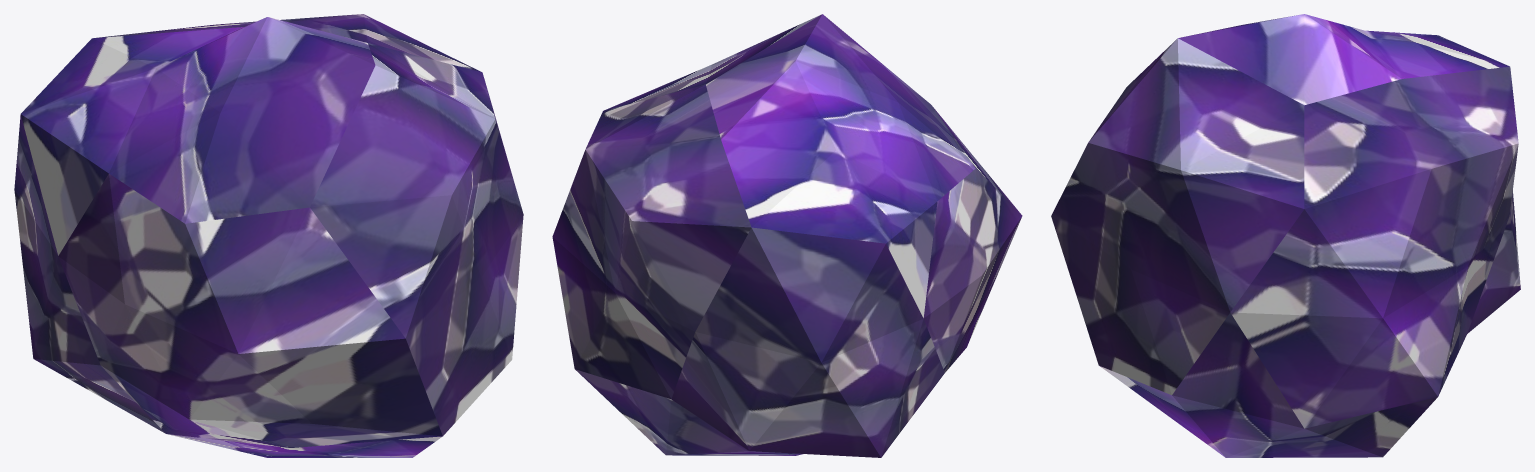
The model's file is Bullet 1.fbx.
3 views of the same model, side by side, from view 1: azimuth 30°, elevation 25°; view 2: azimuth 150°, elevation 25°; view 3: azimuth 270°, elevation 25° (orthographic). The views are drawn at different scales.
Parts seen in each view (by area): view 1: Icosphere; view 2: Icosphere; view 3: Icosphere.
Boxes of the visible parts, x1,y1,x2,y2 form: Icosphere: [14, 14, 523, 457]; Icosphere: [552, 14, 1022, 457]; Icosphere: [1051, 14, 1520, 457].
Bounding box in the file's own units: 50.3 × 52.37 × 55.16.
